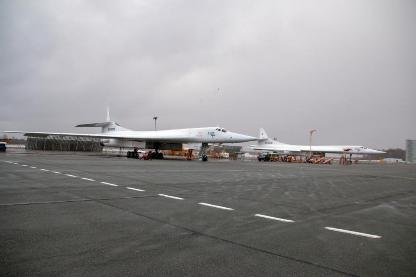Su34: (0, 105, 258, 160), (242, 126, 388, 163)
